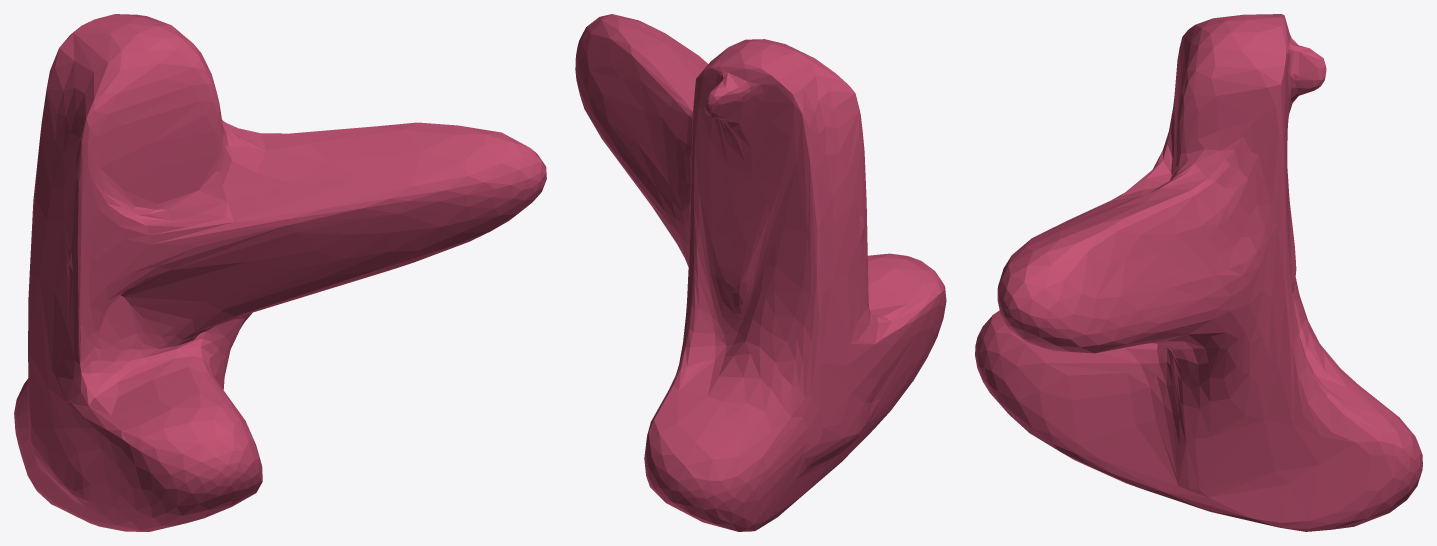
3 renders of one model, left to right at view 1: azimuth 30°, elevation 25°; view 2: azimuth 150°, elevation 25°; view 3: azimuth 270°, elevation 25°, orthographic. The views are drawn at different scales.
Parts seen in each view (by area): view 1: 262_Cube.1072; view 2: 262_Cube.1072; view 3: 262_Cube.1072.
Part boxes in pixels (left/top/right/bottom): 262_Cube.1072: left=14, top=14, right=546, bottom=531; 262_Cube.1072: left=575, top=14, right=946, bottom=531; 262_Cube.1072: left=975, top=14, right=1422, bottom=531.
Bounding box in the file's own units: 11.47 × 13.22 × 10.66.
